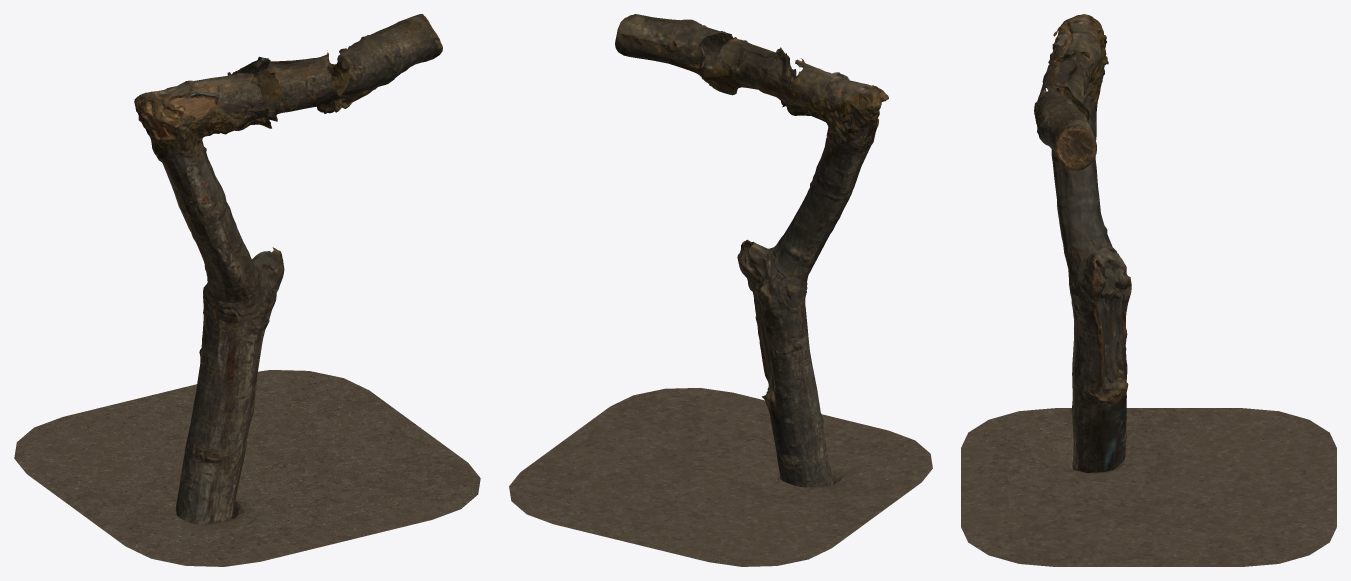
The model's file is stand.obj.
3 views of the same model, side by side, from view 1: azimuth 30°, elevation 25°; view 2: azimuth 150°, elevation 25°; view 3: azimuth 270°, elevation 25° (orthographic). The views are drawn at different scales.
Visible parts, largest first — view 1: obj15, obj3; view 2: obj15, obj3; view 3: obj15, obj3.
Boxes of the visible parts, x1=… form: obj15: x1=14, y1=370, x2=480, y2=566; obj3: x1=134, y1=14, x2=442, y2=524; obj15: x1=509, y1=388, x2=932, y2=566; obj3: x1=615, y1=14, x2=888, y2=487; obj15: x1=961, y1=408, x2=1336, y2=566; obj3: x1=1034, y1=14, x2=1131, y2=472.
Bounding box in the file's own units: 59.77 × 80.55 × 59.77.
2 materials, 2 textured.
